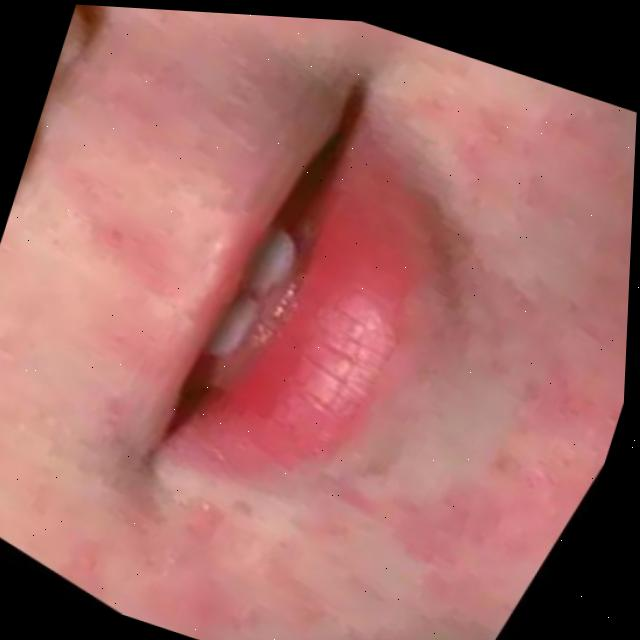Eczema: (104, 21, 639, 640)
